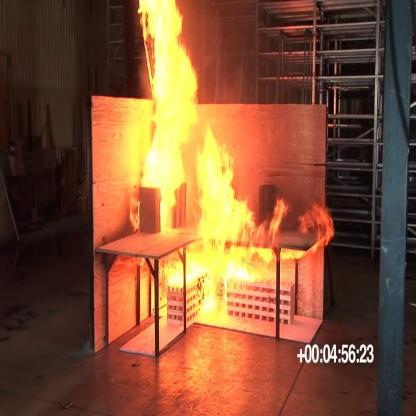fire: (113, 0, 204, 244), (180, 144, 283, 251), (244, 203, 341, 280), (156, 252, 249, 319)
